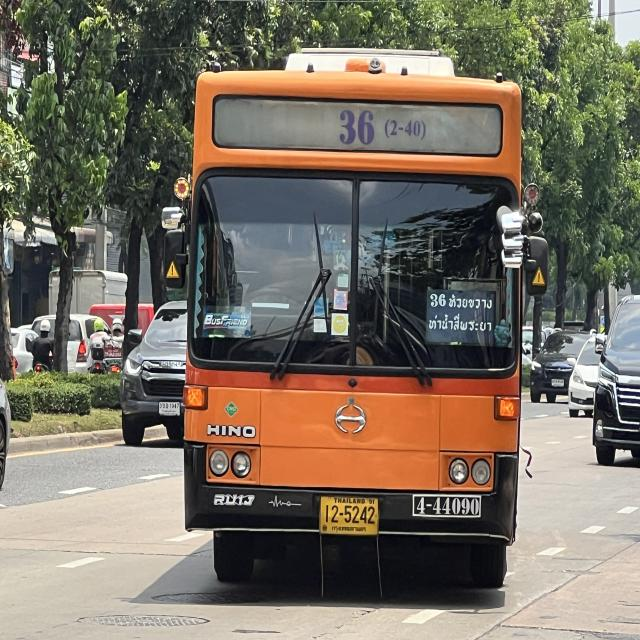BMTA-bus: (177, 49, 544, 592)
Bus-Line-Number: (330, 106, 429, 151)
Destination-Sign-Normal: (425, 288, 496, 346)
